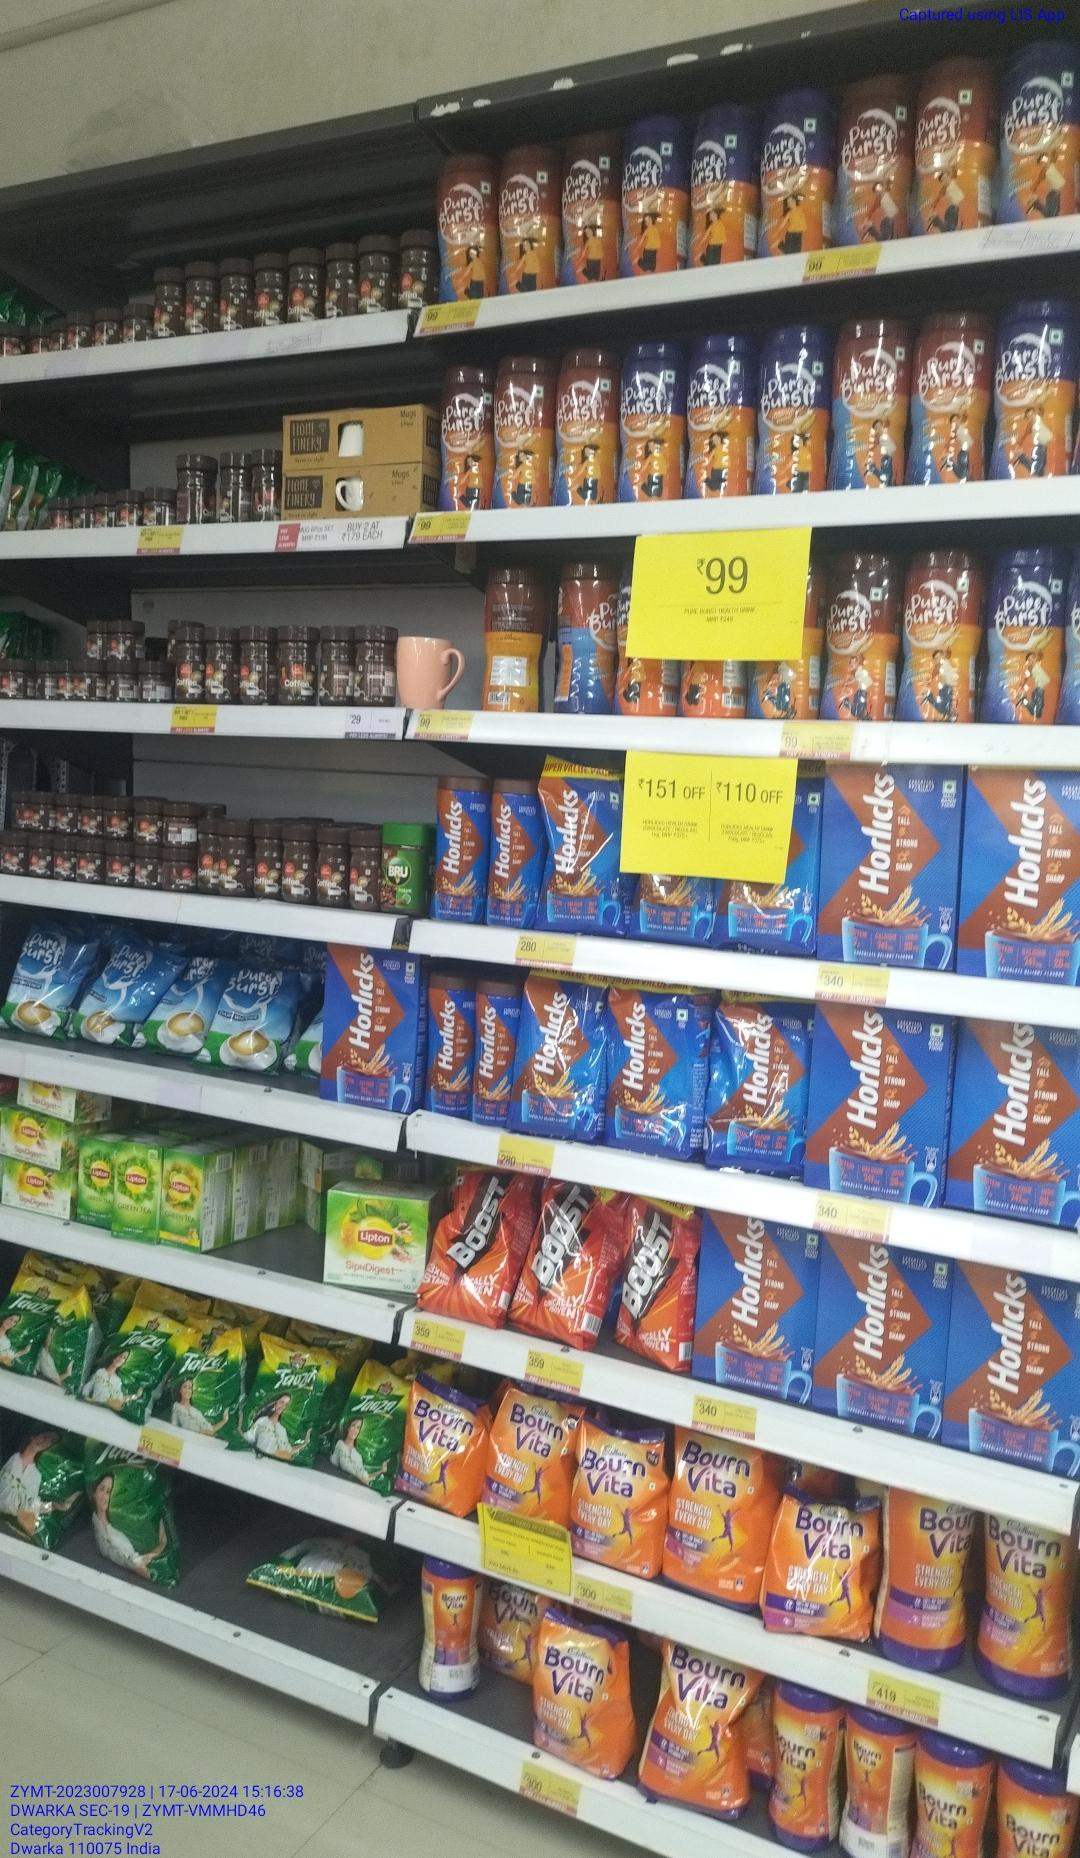BOURN_VITA_1_KG_JAR: (876, 1484, 973, 1669), (980, 1517, 1079, 1688)
BOURN_VITA_1_KG_POUCH: (670, 1434, 762, 1605)
BOURN_VITA_500_G_JAR: (768, 1687, 836, 1849)
BOURN_VITA_500_G_POUCH: (643, 1651, 753, 1826), (535, 1611, 636, 1772), (768, 1493, 873, 1641), (406, 1380, 478, 1513)
BOURN_VITA_750_G_POUCH: (481, 1381, 575, 1524), (577, 1429, 666, 1578)
HORLICK_CHOCOLATE_1_KG_JAR: (819, 762, 959, 966), (809, 1007, 945, 1205), (949, 1022, 1080, 1218), (948, 1279, 1080, 1472), (966, 769, 1080, 985), (820, 1237, 944, 1435), (697, 1219, 813, 1396)
HORLICK_CHOCOLATE_500_G_JAR: (485, 773, 536, 930), (433, 770, 482, 922), (426, 968, 473, 1121), (474, 980, 513, 1126)
HORLICK_CHOCOLATE_500_G_PACK: (320, 946, 415, 1107)
HORLICK_CHOCOLATE_750_G_POUCH: (604, 981, 701, 1159), (703, 997, 798, 1170), (518, 970, 602, 1133), (544, 757, 620, 930)
